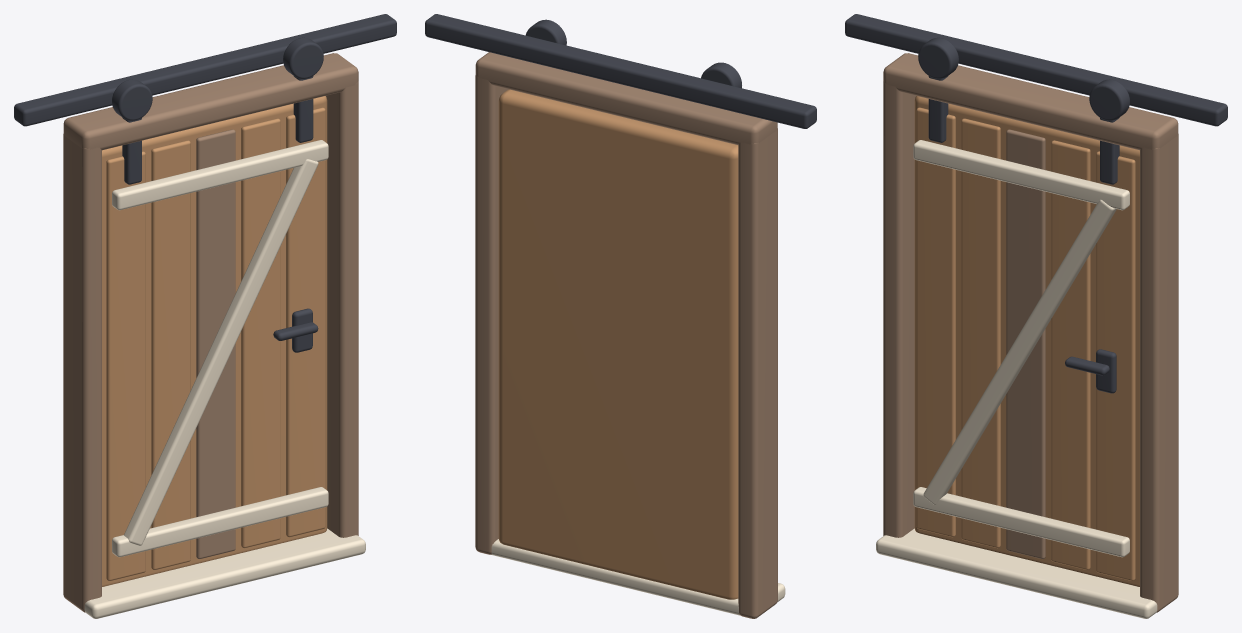
File: doorBarnSliding.glb
3 renders of one model, left to right at view 1: azimuth 30°, elevation 25°; view 2: azimuth 150°, elevation 25°; view 3: azimuth 330°, elevation 25°, orthographic. The views are drawn at different scales.
Visible parts, largest first — view 1: Door jamb, Barn door plank, Door slab, Door jamb.001, Barn door plank.001, Barn door plank.002, Barn door plank.003, Barn door plank.004, Door lintel, Diagonal barn brace, Sliding door rail, Door threshold (+7 smaller); view 2: Door slab, Door jamb, Door jamb.001, Sliding door rail, Door lintel, Door threshold, Door roller, Door roller.001; view 3: Door jamb.001, Door slab, Door jamb, Barn door plank, Barn door plank.004, Barn door plank.001, Barn door plank.002, Barn door plank.003, Door lintel, Sliding door rail, Door threshold, Diagonal barn brace (+7 smaller).
Part boxes in pixels (bbox=[...]): Door jamb: bbox=[63, 134, 101, 612]; Barn door plank: bbox=[106, 151, 145, 580]; Door slab: bbox=[102, 96, 327, 586]; Door jamb.001: bbox=[326, 81, 358, 537]; Barn door plank.001: bbox=[151, 140, 190, 569]; Barn door plank.002: bbox=[196, 129, 235, 558]; Barn door plank.003: bbox=[241, 118, 280, 548]; Barn door plank.004: bbox=[286, 107, 325, 537]; Door lintel: bbox=[63, 53, 358, 150]; Diagonal barn brace: bbox=[124, 159, 318, 545]; Sliding door rail: bbox=[14, 14, 396, 126]; Door threshold: bbox=[84, 528, 365, 618]; Door slab: bbox=[498, 89, 738, 599]; Door jamb: bbox=[738, 128, 777, 618]; Door jamb.001: bbox=[475, 74, 509, 554]; Sliding door rail: bbox=[425, 14, 816, 128]; Door lintel: bbox=[475, 52, 777, 144]; Door threshold: bbox=[491, 539, 785, 615]; Door roller: bbox=[701, 62, 741, 88]; Door roller.001: bbox=[525, 19, 566, 45]; Door jamb.001: bbox=[1140, 134, 1178, 612]; Door slab: bbox=[914, 96, 1139, 586]; Door jamb: bbox=[883, 81, 915, 537]; Barn door plank: bbox=[916, 107, 955, 537]; Barn door plank.004: bbox=[1096, 151, 1135, 580]; Barn door plank.001: bbox=[961, 118, 1000, 548]; Barn door plank.002: bbox=[1006, 129, 1045, 558]; Barn door plank.003: bbox=[1051, 140, 1090, 569]; Door lintel: bbox=[883, 53, 1178, 150]; Sliding door rail: bbox=[845, 14, 1227, 126]; Door threshold: bbox=[876, 528, 1157, 618]; Diagonal barn brace: bbox=[923, 199, 1116, 504].
Size of the model in its own units: 1.75 by 2.31 by 0.255.
